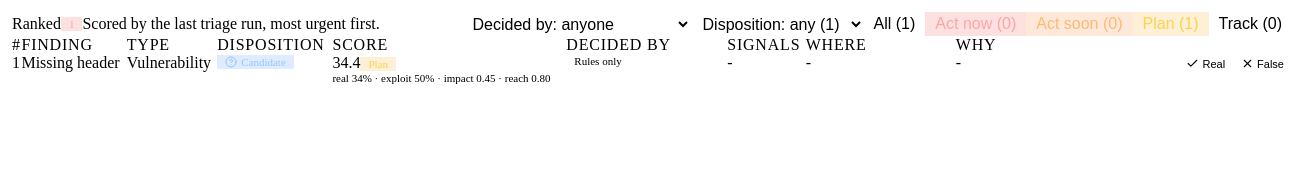
Test: a verdict replaces its row in place › the row comes back from the answer, with no reload, and the reason is sent (U9, B10)
Click the button titled "Mark this real" at x=1206, y=64, box x1=1178 y1=54 x2=1233 y2=73
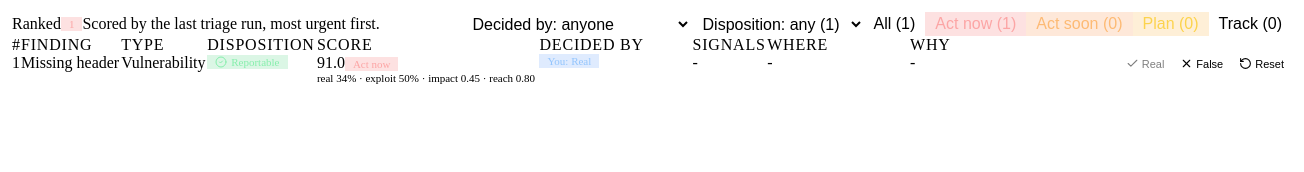
Check: the text "You: Real" is shown, box x1=540 y1=54 x2=599 y2=68
Check: the text "91.0" is shown, box x1=317 y1=54 x2=345 y2=71
